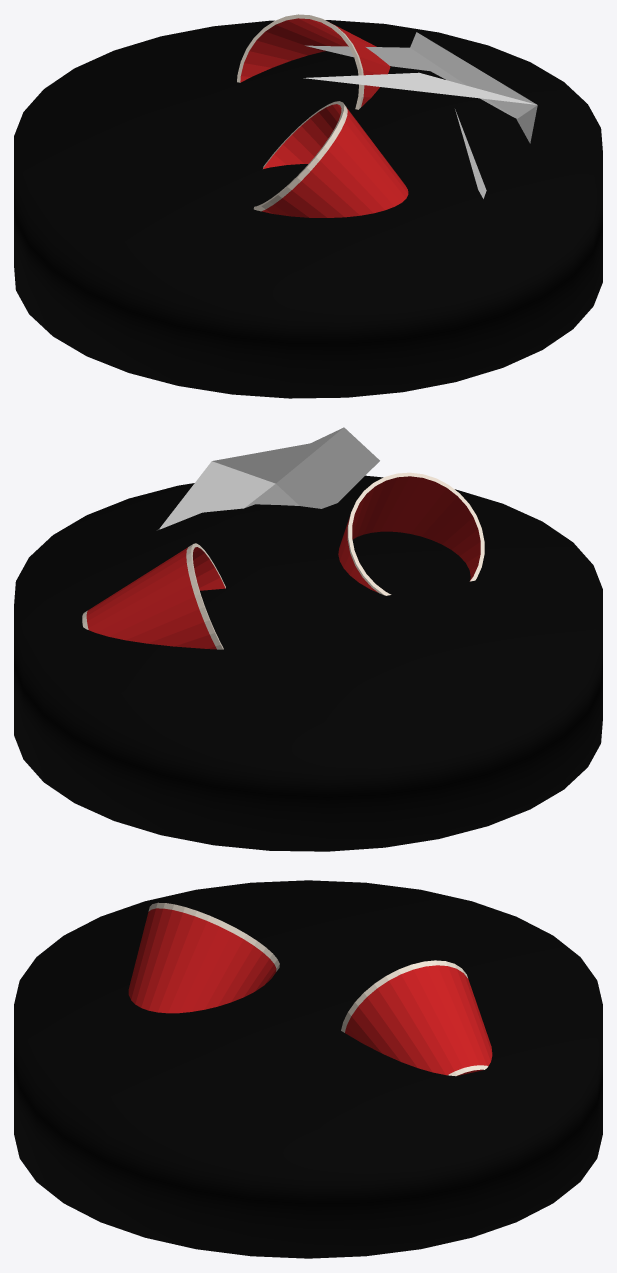
File: trashMicah.glb
The picture shows the model from 3 angles, top to bottom: view 1: azimuth 30°, elevation 25°; view 2: azimuth 150°, elevation 25°; view 3: azimuth 270°, elevation 25°; orthographic projection.
Parts seen in each view (by area): view 1: Cylinder.011, Cylinder.012, Plane, Cylinder.013; view 2: Cylinder.011, Plane, Cylinder.013, Cylinder.012; view 3: Cylinder.011, Cylinder.013, Cylinder.012.
Boxes of the visible parts, left/top/right/bottom form: Cylinder.011: left=14, top=20, right=602, bottom=398; Cylinder.012: left=253, top=101, right=408, bottom=217; Plane: left=303, top=32, right=537, bottom=198; Cylinder.013: left=237, top=14, right=390, bottom=109; Cylinder.011: left=14, top=475, right=602, bottom=851; Plane: left=156, top=427, right=379, bottom=530; Cylinder.013: left=82, top=543, right=225, bottom=649; Cylinder.012: left=338, top=472, right=484, bottom=595; Cylinder.011: left=14, top=880, right=602, bottom=1258; Cylinder.013: left=341, top=960, right=492, bottom=1076; Cylinder.012: left=128, top=902, right=279, bottom=1013.
Size of the model in its own units: 0.3761 by 0.1632 by 0.3761.
1 material, 1 textured.
